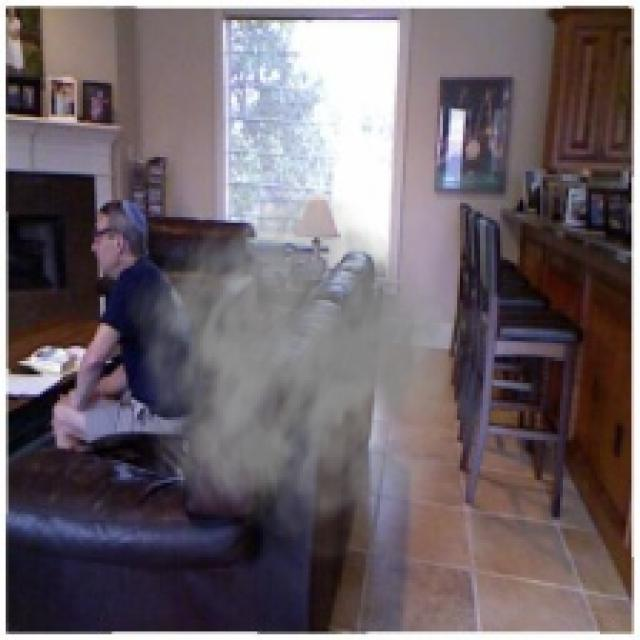smoke: (126, 194, 491, 566)
